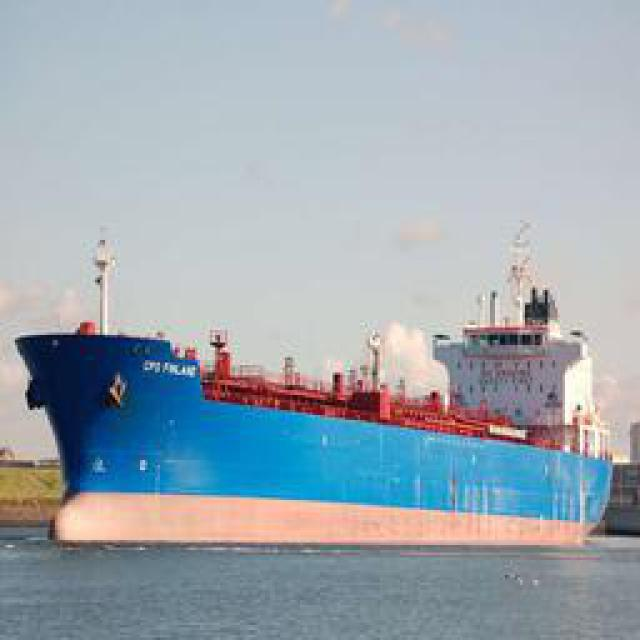Ship: (20, 251, 625, 549)
